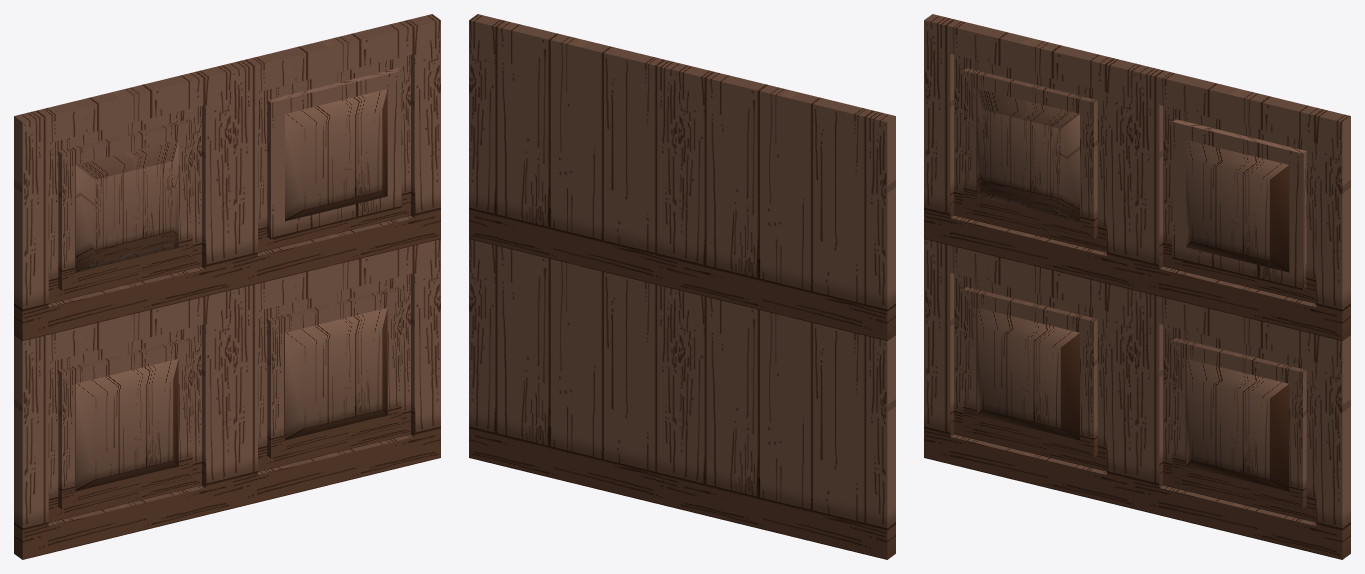
File: wallpanel.fbx
3 views of the same model, side by side, from view 1: azimuth 30°, elevation 25°; view 2: azimuth 150°, elevation 25°; view 3: azimuth 330°, elevation 25° (orthographic).
Visible parts, largest first — view 1: polySurface1 (×4), pPlane1 (×4), pPlane4 (×4); view 2: polySurface1 (×4); view 3: polySurface1 (×4), pPlane1 (×4), pPlane4 (×4).
Part boxes in pixels (<box>): polySurface1 (×4): <box>14,14,440,559</box>; pPlane1 (×4): <box>75,89,387,491</box>; pPlane4 (×4): <box>58,68,401,509</box>; polySurface1 (×4): <box>469,14,895,559</box>; polySurface1 (×4): <box>924,14,1350,559</box>; pPlane1 (×4): <box>977,89,1289,491</box>; pPlane4 (×4): <box>963,68,1306,509</box>.
Size of the model in its own units: 1 by 1 by 0.0639.
Materials: 1 (1 with a texture image).
